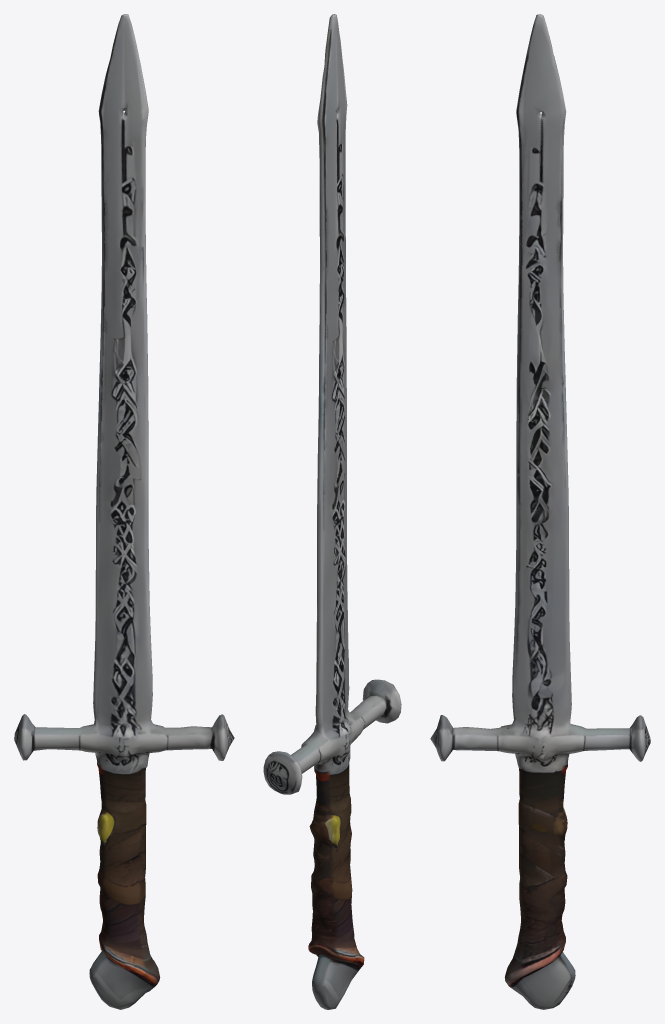
File: wpn_ironsword.glb
The picture shows the model from 3 angles, left to right: view 1: azimuth 90°, elevation 25°; view 2: azimuth 150°, elevation 25°; view 3: azimuth 270°, elevation 25°; orthographic projection.
Visible parts, largest first — view 1: tripo_node_2952fb9d-4f2e-4cc8-9805-dfc67d369d94; view 2: tripo_node_2952fb9d-4f2e-4cc8-9805-dfc67d369d94; view 3: tripo_node_2952fb9d-4f2e-4cc8-9805-dfc67d369d94.
Part boxes in pixels (x1,y1,x2,y2): tripo_node_2952fb9d-4f2e-4cc8-9805-dfc67d369d94: (14,14,234,1009); tripo_node_2952fb9d-4f2e-4cc8-9805-dfc67d369d94: (263,14,401,1009); tripo_node_2952fb9d-4f2e-4cc8-9805-dfc67d369d94: (430,14,650,1009).
Bounding box in the file's own units: 0.0479 × 0.9997 × 0.2008.
Materials: 1 (1 with a texture image).
